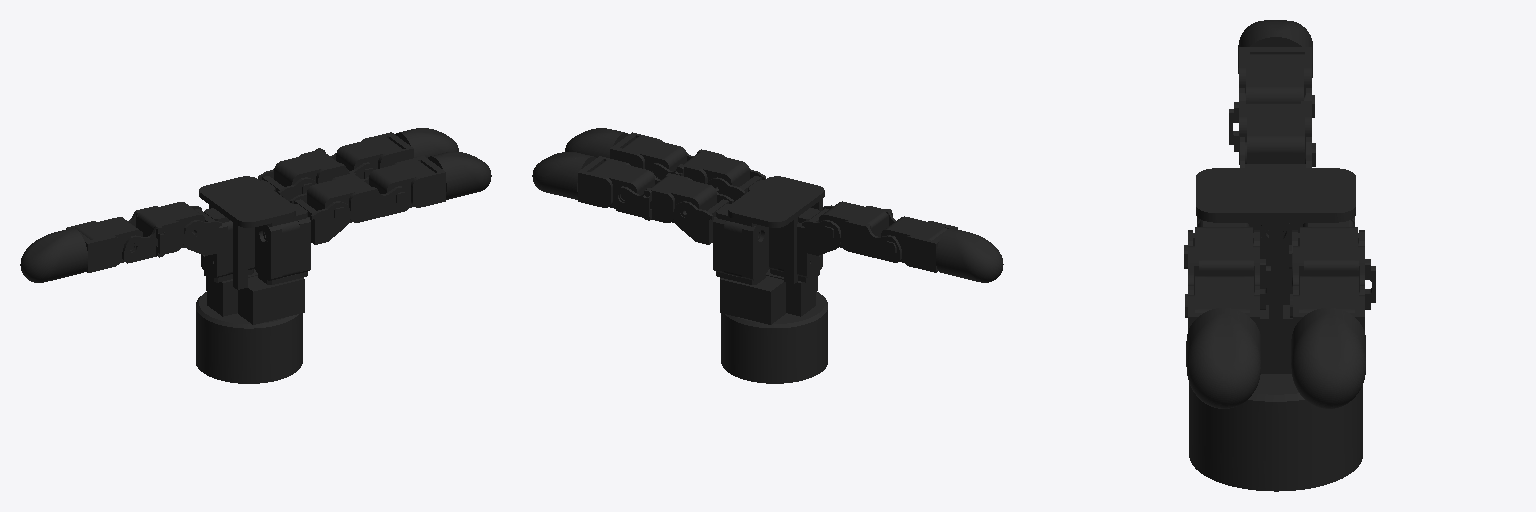
robot.urdf — delto_gripper_3f:
<?xml version="1.0" ?>

<robot name="delto_gripper_3f">

   <material name="silver">
      <color rgba="0.700 0.700 0.700 1"/>
   </material>

   <material name="black">
      <color rgba="0.196 0.196 0.196 1"/>
   </material>

   <material name="white">
      <color rgba="0.8 0.8 0.8 1"/>
   </material>

   <link name="delto_base_link">

      <inertial>
         <origin xyz="0.000883196 -7.49966e-05 0.0324928" rpy="0 0 0"/>
         <mass value="0.370"/>
         <inertia ixx="0.0003269" iyy="0.000311459" izz="0.000182324" ixy="-4.81638e-07" ixz="2.90647e-06" iyz="1.4022e-06"/>
      </inertial>

      <visual>
         <origin xyz="0 0 0" rpy="0 0 0"/>
         <geometry>
            <mesh filename="meshes/visual/delto_base_link.stl" scale="0.001 0.001 0.001"/>
         </geometry>
         <material name="black"/>
      </visual>

      <collision>
         <origin xyz="0 0 0" rpy="0 0 0"/>
         <geometry>
            <mesh filename="meshes/collision/delto_base_link.stl" scale="0.001 0.001 0.001"/>
         </geometry>
      </collision>

   </link>


 <link name="F1_01">

      <inertial>
      
         <origin xyz="0.000365161 1.10309e-07 0.0215156" rpy= "0 0 0"/>
         <mass value="0.061"/>
         <inertia ixx="1.89742e-05" iyy="2.20546e-05" izz="7.1394e-06" ixy="0" ixz="-2.59697e-07" iyz="0"/>
      </inertial>

      <visual>
         <origin xyz="0 0 0" rpy="0 0 0"/>
         <geometry>
            <mesh filename="meshes/visual/link_01.stl" scale="0.001 0.001 0.001"/>
         </geometry>
         <material name="black"/>
      </visual>
      
      <collision>
         <origin xyz="0 0 0" rpy="0 0 0"/>
         <geometry>
            <mesh filename="meshes/collision/link_01.stl" scale="0.001 0.001 0.001"/>
         </geometry>
      </collision> 

   </link>



   <link name="F1_02">
      <inertial>
         <origin xyz="0.00353133 0.000519754 0.00690092" rpy="0 0 0"/>
         <mass value="0.025"/>
         <inertia ixx="3.51946e-06" iyy="2.02334e-06" izz="3.33911e-06" ixy="-6.14263e-08" ixz="-2.82283e-07" iyz="-1.17458e-07"/>
      </inertial>

      <visual>
         <origin xyz="0 0 0" rpy="0 0 0"/>
         <geometry>
            <mesh filename="meshes/visual/link_02.stl" scale="0.001 0.001 0.001"/>
         </geometry>
         <material name="black"/>
      </visual>

      <collision>
         <origin xyz="0 0 0" rpy="0 0 0"/>
         <geometry>
            <mesh filename="meshes/collision/link_02.stl" />
         </geometry>
      </collision>
   </link>
   <link name="F1_03">
      <inertial>
         <origin xyz="-0.0112398 9.3567e-05 -0.000281754" rpy="0 0 0"/>
         <mass value="0.051"/>
         <inertia ixx="4.27392e-06" iyy="9.20872e-06" izz="7.9414e-06" ixy="1.28652e-07" ixz="1.82142e-08" iyz="-3.12743e-09"/>
      </inertial>

      <visual>
         <origin xyz="0 0 0" rpy="0 0 0"/>
         <geometry>
            <mesh filename="meshes/visual/link_03.stl" scale="0.001 0.001 0.001"/>
         </geometry>
         <material name="black"/>
      </visual>
      <collision>
         <origin xyz="0 0 0" rpy="0 0 0"/>
         <geometry>
            <mesh filename="meshes/collision/link_03.stl" scale="0.001 0.001 0.001"/>
         </geometry>
      </collision>
   </link>
   <link name="F1_04">
      <inertial>
         <origin xyz="-0.0241548 0.000398931 -0.0001378" rpy="0 0 0"/>
         <mass value="0.0710"/>
         <inertia ixx="5.92843e-06" iyy="3.20691e-05" izz="3.11001e-05" ixy="9.13193e-07" ixz="3.8959e-08" iyz="-1.03979e-09"/>
      </inertial>

      <visual>
         <origin xyz="0 0 0" rpy="0 0 0"/>
         <geometry>
            <mesh filename="meshes/visual/link_04.stl" scale="0.001 0.001 0.001"/>
         </geometry>
         <material name="black"/>
      </visual>

      <collision>
         <origin xyz="0 0 0" rpy="0 0 0"/>
         <geometry>
            <mesh filename="meshes/collision/link_04.stl" scale="0.001 0.001 0.001"/>
         </geometry>
      </collision>

   </link>
   <link name="F1_TIP">
      <inertial>
         <origin xyz="0 0 0" rpy="0 0 0"/>
         <mass value="0.0"/>
         <inertia ixx="0" iyy="0" izz="0" ixy="0" ixz="0" iyz="0"/>
      </inertial>
   </link>


<link name="F2_01">

      <inertial>
      
         <origin xyz="0.000365161 1.10309e-07 0.0215156" rpy= "0 0 0"/>
         <mass value="0.061"/>
         <inertia ixx="1.89742e-05" iyy="2.20546e-05" izz="7.1394e-06" ixy="0" ixz="-2.59697e-07" iyz="0"/>
      </inertial>

      <visual>
         <origin xyz="0 0 0" rpy="0 0 0"/>
         <geometry>
            <mesh filename="meshes/visual/link_01.stl" scale="0.001 0.001 0.001"/>
         </geometry>
         <material name="black"/>
      </visual>
      
      <collision>
         <origin xyz="0 0 0" rpy="0 0 0"/>
         <geometry>
            <mesh filename="meshes/collision/link_01.stl" scale="0.001 0.001 0.001"/>
         </geometry>
      </collision> 

   </link>



   <link name="F2_02">
      <inertial>
         <origin xyz="0.00353133 0.000519754 0.00690092" rpy="0 0 0"/>
         <mass value="0.025"/>
         <inertia ixx="3.51946e-06" iyy="2.02334e-06" izz="3.33911e-06" ixy="-6.14263e-08" ixz="-2.82283e-07" iyz="-1.17458e-07"/>
      </inertial>

      <visual>
         <origin xyz="0 0 0" rpy="0 0 0"/>
         <geometry>
            <mesh filename="meshes/visual/link_02.stl" scale="0.001 0.001 0.001"/>
         </geometry>
         <material name="black"/>
      </visual>

      <collision>
         <origin xyz="0 0 0" rpy="0 0 0"/>
         <geometry>
            <mesh filename="meshes/collision/link_02.stl" />
         </geometry>
      </collision>
   </link>
   <link name="F2_03">
      <inertial>
         <origin xyz="-0.0112398 9.3567e-05 -0.000281754" rpy="0 0 0"/>
         <mass value="0.051"/>
         <inertia ixx="4.27392e-06" iyy="9.20872e-06" izz="7.9414e-06" ixy="1.28652e-07" ixz="1.82142e-08" iyz="-3.12743e-09"/>
      </inertial>

      <visual>
         <origin xyz="0 0 0" rpy="0 0 0"/>
         <geometry>
            <mesh filename="meshes/visual/link_03.stl" scale="0.001 0.001 0.001"/>
         </geometry>
         <material name="black"/>
      </visual>
      <collision>
         <origin xyz="0 0 0" rpy="0 0 0"/>
         <geometry>
            <mesh filename="meshes/collision/link_03.stl" scale="0.001 0.001 0.001"/>
         </geometry>
      </collision>
   </link>
   <link name="F2_04">
      <inertial>
         <origin xyz="-0.0241548 0.000398931 -0.0001378" rpy="0 0 0"/>
         <mass value="0.0710"/>
         <inertia ixx="5.92843e-06" iyy="3.20691e-05" izz="3.11001e-05" ixy="9.13193e-07" ixz="3.8959e-08" iyz="-1.03979e-09"/>
      </inertial>

      <visual>
         <origin xyz="0 0 0" rpy="0 0 0"/>
         <geometry>
            <mesh filename="meshes/visual/link_04.stl" scale="0.001 0.001 0.001"/>
         </geometry>
         <material name="black"/>
      </visual>

      <collision>
         <origin xyz="0 0 0" rpy="0 0 0"/>
         <geometry>
            <mesh filename="meshes/collision/link_04.stl" scale="0.001 0.001 0.001"/>
         </geometry>
      </collision>

   </link>
   <link name="F2_TIP">
      <inertial>
         <origin xyz="0 0 0" rpy="0 0 0"/>
         <mass value="0.0"/>
         <inertia ixx="0" iyy="0" izz="0" ixy="0" ixz="0" iyz="0"/>
      </inertial>
   </link>




<link name="F3_01">

      <inertial>
      
         <origin xyz="0.000365161 1.10309e-07 0.0215156" rpy= "0 0 0"/>
         <mass value="0.061"/>
         <inertia ixx="1.89742e-05" iyy="2.20546e-05" izz="7.1394e-06" ixy="0" ixz="-2.59697e-07" iyz="0"/>
      </inertial>

      <visual>
         <origin xyz="0 0 0" rpy="0 0 0"/>
         <geometry>
            <mesh filename="meshes/visual/link_01.stl" scale="0.001 0.001 0.001"/>
         </geometry>
         <material name="black"/>
      </visual>
      
      <collision>
         <origin xyz="0 0 0" rpy="0 0 0"/>
         <geometry>
            <mesh filename="meshes/collision/link_01.stl" scale="0.001 0.001 0.001"/>
         </geometry>
      </collision> 

   </link>



   <link name="F3_02">
      <inertial>
         <origin xyz="0.00353133 0.000519754 0.00690092" rpy="0 0 0"/>
         <mass value="0.025"/>
         <inertia ixx="3.51946e-06" iyy="2.02334e-06" izz="3.33911e-06" ixy="-6.14263e-08" ixz="-2.82283e-07" iyz="-1.17458e-07"/>
      </inertial>

      <visual>
         <origin xyz="0 0 0" rpy="0 0 0"/>
         <geometry>
            <mesh filename="meshes/visual/link_02.stl" scale="0.001 0.001 0.001"/>
         </geometry>
         <material name="black"/>
      </visual>

      <collision>
         <origin xyz="0 0 0" rpy="0 0 0"/>
         <geometry>
            <mesh filename="meshes/collision/link_02.stl" />
         </geometry>
      </collision>
   </link>
   <link name="F3_03">
      <inertial>
         <origin xyz="-0.0112398 9.3567e-05 -0.000281754" rpy="0 0 0"/>
         <mass value="0.051"/>
         <inertia ixx="4.27392e-06" iyy="9.20872e-06" izz="7.9414e-06" ixy="1.28652e-07" ixz="1.82142e-08" iyz="-3.12743e-09"/>
      </inertial>

      <visual>
         <origin xyz="0 0 0" rpy="0 0 0"/>
         <geometry>
            <mesh filename="meshes/visual/link_03.stl" scale="0.001 0.001 0.001"/>
         </geometry>
         <material name="black"/>
      </visual>
      <collision>
         <origin xyz="0 0 0" rpy="0 0 0"/>
         <geometry>
            <mesh filename="meshes/collision/link_03.stl" scale="0.001 0.001 0.001"/>
         </geometry>
      </collision>
   </link>
   <link name="F3_04">
      <inertial>
         <origin xyz="-0.0241548 0.000398931 -0.0001378" rpy="0 0 0"/>
         <mass value="0.0710"/>
         <inertia ixx="5.92843e-06" iyy="3.20691e-05" izz="3.11001e-05" ixy="9.13193e-07" ixz="3.8959e-08" iyz="-1.03979e-09"/>
      </inertial>

      <visual>
         <origin xyz="0 0 0" rpy="0 0 0"/>
         <geometry>
            <mesh filename="meshes/visual/link_04.stl" scale="0.001 0.001 0.001"/>
         </geometry>
         <material name="black"/>
      </visual>

      <collision>
         <origin xyz="0 0 0" rpy="0 0 0"/>
         <geometry>
            <mesh filename="meshes/collision/link_04.stl" scale="0.001 0.001 0.001"/>
         </geometry>
      </collision>

   </link>
   <link name="F3_TIP">
      <inertial>
         <origin xyz="0 0 0" rpy="0 0 0"/>
         <mass value="0.0"/>
         <inertia ixx="0" iyy="0" izz="0" ixy="0" ixz="0" iyz="0"/>
      </inertial>
   </link>











   <!--Joint -->

   <joint name = "F1M1" type = "revolute">
      <origin xyz="-0.01320 0.0 0.06180" rpy="0 0 0"/>
      <parent link="delto_base_link"/>
      <child link="F1_01"/>
      <axis xyz="0.0 0.0 1.0"/>
      <limit effort="10.0" velocity="5.0" lower="-1.0472" upper="1.0472" />
      <dynamics damping="1.1" friction="1.1"/>
   </joint>

   <joint name = "F1M2" type = "revolute">
      <origin xyz="-0.01420 0.0 0.03030" rpy="0 -1.57078 0"/>
      <parent link="F1_01"/>
      <child link="F1_02"/>
      <axis xyz="0.0 0.0 1.0"/>
      <limit effort="10.0" velocity="5.0" lower="-1.76278" upper="1.76278" />
      <dynamics damping="1.1" friction="1.1"/>
   </joint>
   <joint name = "F1M3" type = "revolute">
      <origin xyz="0.01010 0 0.01750 " rpy="0 1.57078 1.57078"/>
      <parent link="F1_02"/>
      <child link="F1_03"/>
      <axis xyz="0.0 0.0 1.0"/>
      <limit effort="10.0" velocity="5.0" lower="-0.15708" upper="2.53073" />
      <dynamics damping="1.1" friction="1.1"/>
   </joint>

   <joint name = "F1M4" type = "revolute">
      <origin xyz="-0.0434 0.0 0.0" rpy="0 0 0"/>
      <parent link="F1_03"/>
      <child link="F1_04"/>
      <axis xyz="0.0 0.0 1.0"/>
      <limit effort="10.0" velocity="5.0" lower="-0.226893" upper="2.02458"/>
      <dynamics damping="1.1" friction="1.1"/>
   </joint>   

    <joint name = "TIP1" type="fixed">
      <origin xyz="-0.05587 -0.00922 0.0 " rpy="1.57078 0 0 "/>
      <parent link="F1_04"/>
      <child link="F1_TIP"/>
   </joint>


   <joint name = "F2M1" type = "revolute">
      <origin xyz="0.01320 -0.01960 0.06180" rpy="0 0 3.141592"/>
      <parent link="delto_base_link"/>
      <child link="F2_01"/>
      <axis xyz="0.0 0.0 1.0"/>
      <limit effort="10.0" velocity="5.0" lower="-1.0472" upper="1.0472" />
      <dynamics damping="1.1" friction="1.1"/>
   </joint>

   <joint name = "F2M2" type = "revolute">
      <origin xyz="-0.01420 0.0 0.03030" rpy="0 -1.57078 0"/>
      <parent link="F2_01"/>
      <child link="F2_02"/>
      <axis xyz="0.0 0.0 1.0"/>
      <limit effort="10.0" velocity="5.0" lower="-1.76278" upper="1.76278" />
      <dynamics damping="1.1" friction="1.1"/>
   </joint>
   <joint name = "F2M3" type = "revolute">
      <origin xyz="0.01010 0 0.01750 " rpy="0 1.57078 1.57078"/>
      <parent link="F2_02"/>
      <child link="F2_03"/>
      <axis xyz="0.0 0.0 1.0"/>
      <limit effort="10.0" velocity="5.0" lower="-0.15708" upper="2.53073" />
      <dynamics damping="1.1" friction="1.1"/>
   </joint>

   <joint name = "F2M4" type = "revolute">
      <origin xyz="-0.0434 0.0 0.0" rpy="0 0 0"/>
      <parent link="F2_03"/>
      <child link="F2_04"/>
      <axis xyz="0.0 0.0 1.0"/>
      <limit effort="10.0" velocity="5.0" lower="-0.226893" upper="2.02458"/>
      <dynamics damping="1.1" friction="1.1"/>
   </joint>   

    <joint name = "TIP2" type="fixed">
      <origin xyz="-0.05587 -0.00922 0.0 " rpy="1.57078 0 0 "/>
      <parent link="F2_04"/>
      <child link="F2_TIP"/>
   </joint>




   <joint name = "F3M1" type = "revolute">
      <origin xyz="0.01320 0.01960 0.06180" rpy="0 0 3.141592"/>
      <parent link="delto_base_link"/>
      <child link="F3_01"/>
      <axis xyz="0.0 0.0 1.0"/>
      <limit effort="10.0" velocity="5.0" lower="-1.0472" upper="1.0472" />
      <dynamics damping="1.1" friction="1.1"/>
   </joint>

   <joint name = "F3M2" type = "revolute">
      <origin xyz="-0.01420 0.0 0.03030" rpy="0 -1.57078 0"/>
      <parent link="F3_01"/>
      <child link="F3_02"/>
      <axis xyz="0.0 0.0 1.0"/>
      <limit effort="10.0" velocity="5.0" lower="-1.76278" upper="1.76278" />
      <dynamics damping="1.1" friction="1.1"/>
   </joint>
   <joint name = "F3M3" type = "revolute">
      <origin xyz="0.01010 0 0.01750 " rpy="0 1.57078 1.57078"/>
      <parent link="F3_02"/>
      <child link="F3_03"/>
      <axis xyz="0.0 0.0 1.0"/>
      <limit effort="10.0" velocity="5.0" lower="-0.15708" upper="2.53073" />
      <dynamics damping="1.1" friction="1.1"/>
   </joint>

   <joint name = "F3M4" type = "revolute">
      <origin xyz="-0.0434 0.0 0.0" rpy="0 0 0"/>
      <parent link="F3_03"/>
      <child link="F3_04"/>
      <axis xyz="0.0 0.0 1.0"/>
      <limit effort="10.0" velocity="5.0" lower="-0.226893" upper="2.02458"/>
      <dynamics damping="1.1" friction="1.1"/>
   </joint>   

    <joint name = "TIP3" type="fixed">
      <origin xyz="-0.05587 -0.00922 0.0 " rpy="1.57078 0 0 "/>
      <parent link="F3_04"/>
      <child link="F3_TIP"/>
   </joint>



</robot>

--- Render facts (derived) ---
3 views of the same robot in one strip: view 1: azimuth 30°, elevation 25°; view 2: azimuth 150°, elevation 25°; view 3: azimuth 270°, elevation 25° (orthographic).
Model delto_gripper_3f with 16 links and 15 joints (12 revolute, 3 fixed), rooted at delto_base_link, posed all joints at 0.
Links seen in each view (by area): view 1: delto_base_link, F1_04, F2_04, F2_01, F3_04, F1_03, F2_03, F3_03, F1_01, F2_02, F1_02, F3_02; view 2: delto_base_link, F1_04, F3_04, F3_01, F2_04, F3_03, F1_03, F2_03, F1_01, F3_02, F1_02, F2_02; view 3: delto_base_link, F3_04, F2_04, F1_04, F1_03, F3_03, F2_03, F1_01, F1_02.
Boxes of the visible links, x1,y1,x2,y2 form: delto_base_link: (196, 176, 304, 383); F1_04: (20, 217, 142, 282); F2_04: (369, 152, 491, 207); F2_01: (255, 204, 310, 284); F3_04: (336, 128, 458, 170); F1_03: (122, 202, 204, 263); F2_03: (307, 172, 409, 222); F3_03: (274, 148, 375, 186); F1_01: (201, 208, 254, 282); F2_02: (290, 192, 350, 244); F1_02: (183, 206, 221, 255); F3_02: (258, 169, 316, 201); delto_base_link: (720, 176, 827, 383); F1_04: (881, 216, 1003, 282); F3_04: (532, 152, 654, 208); F3_01: (713, 204, 768, 284); F2_04: (565, 128, 686, 177); F3_03: (613, 173, 716, 222); F1_03: (819, 201, 901, 262); F2_03: (648, 149, 749, 193); F1_01: (769, 208, 822, 282); F3_02: (673, 192, 733, 244); F1_02: (802, 205, 840, 255); F2_02: (707, 168, 765, 201); delto_base_link: (1189, 168, 1362, 491); F3_04: (1291, 276, 1365, 408); F2_04: (1186, 276, 1260, 408); F1_04: (1238, 20, 1312, 102); F1_03: (1229, 88, 1314, 164); F3_03: (1290, 227, 1375, 317); F2_03: (1185, 227, 1270, 317); F1_01: (1250, 223, 1301, 304); F1_02: (1240, 137, 1315, 167).
Bounding box of the posed robot: 0.314 × 0.0717 × 0.116 m (x, y, z).
13 mesh visuals loaded from 5 distinct referenced files (5 binary STL).